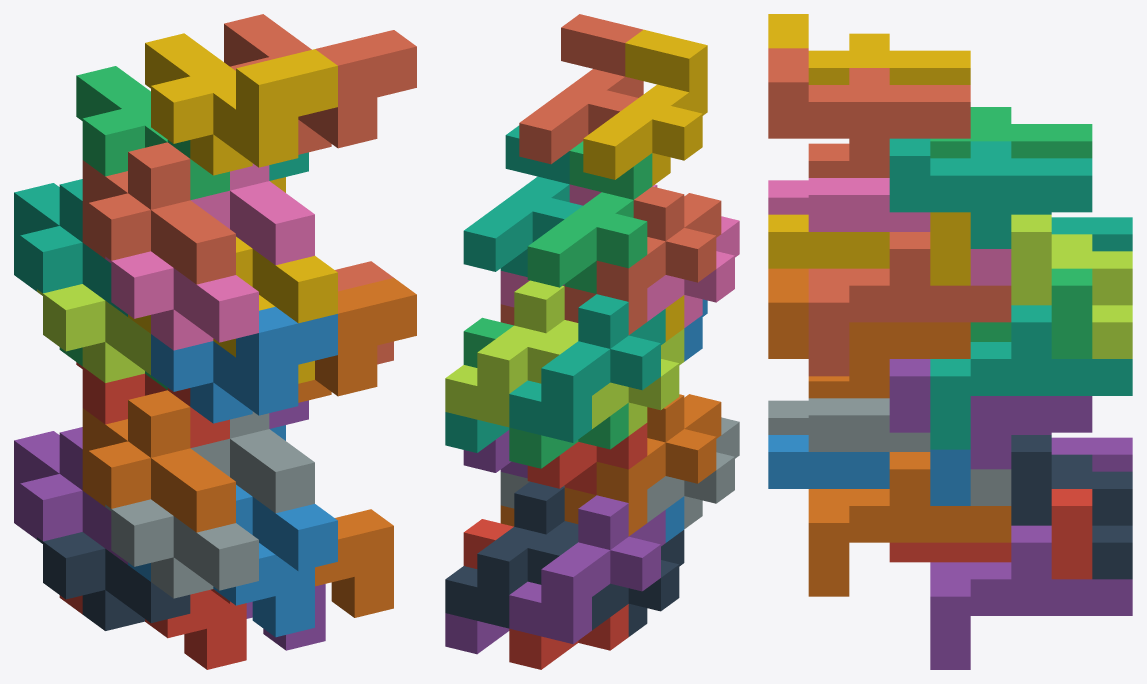
Rendered from tiling.obj.
3 renders of one model, left to right at view 1: azimuth 30°, elevation 25°; view 2: azimuth 150°, elevation 25°; view 3: azimuth 270°, elevation 25°, orthographic. The views are drawn at different scales.
Visible parts, largest first — view 1: copy_4_domain_4, copy_3_domain_4, copy_3_domain_2, copy_4_domain_2, copy_4_domain_8, copy_2_domain_4, copy_2_domain_2, copy_3_domain_1, copy_3_domain_3, copy_2_domain_1, copy_4_domain_3, copy_4_domain_6 (+14 smaller); view 2: copy_4_domain_4, copy_3_domain_1, copy_3_domain_3, copy_4_domain_3, copy_3_domain_4, copy_4_domain_8, copy_3_domain_2, copy_3_domain_5, copy_3_domain_7, copy_4_domain_7, copy_2_domain_1, copy_2_domain_3 (+15 smaller); view 3: copy_4_domain_8, copy_4_domain_7, copy_1_domain_8, copy_1_domain_6, copy_1_domain_5, copy_1_domain_7, copy_4_domain_6, copy_4_domain_5, copy_3_domain_5, copy_3_domain_7, copy_2_domain_8, copy_2_domain_6 (+14 smaller).
Part boxes in pixels (x1,y1,x2,y2): copy_4_domain_4: (145,33,337,175); copy_3_domain_4: (82,142,235,284); copy_3_domain_2: (82,390,235,532); copy_4_domain_2: (151,306,337,423); copy_4_domain_8: (224,14,416,154); copy_2_domain_4: (105,251,258,350); copy_2_domain_2: (105,499,258,598); copy_3_domain_1: (14,427,127,564); copy_3_domain_3: (14,179,127,316); copy_2_domain_1: (37,532,190,630); copy_4_domain_3: (76,66,229,200); copy_4_domain_6: (298,278,416,402); copy_4_domain_4: (583,29,707,185); copy_3_domain_1: (509,495,665,644); copy_3_domain_3: (509,294,665,442); copy_4_domain_3: (527,141,652,293); copy_3_domain_4: (564,186,721,334); copy_4_domain_8: (519,14,643,164); copy_3_domain_2: (564,394,721,536); copy_3_domain_5: (445,481,578,628); copy_3_domain_7: (445,280,578,427); copy_4_domain_7: (463,125,582,276); copy_2_domain_1: (527,530,684,636); copy_2_domain_3: (527,328,684,435); copy_4_domain_8: (768,48,970,175); copy_4_domain_7: (889,138,1092,248); copy_1_domain_8: (808,232,1011,376); copy_1_domain_6: (808,452,1011,596); copy_1_domain_5: (930,525,1132,669); copy_1_domain_7: (930,305,1132,449); copy_4_domain_6: (768,268,970,395); copy_4_domain_5: (889,359,1092,469); copy_3_domain_5: (1011,435,1132,579); copy_3_domain_7: (1011,214,1132,358); copy_2_domain_8: (768,212,970,285); copy_2_domain_6: (768,435,970,505).
Bounding box in the file's own units: 6 × 16 × 9.
